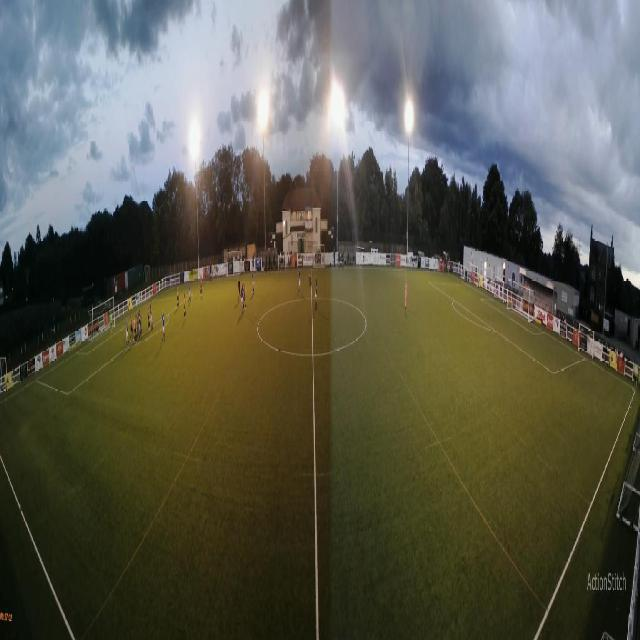ball: (252, 289, 253, 295)
player: (162, 310, 166, 342), (243, 281, 247, 312), (314, 279, 318, 310), (133, 314, 137, 344), (130, 314, 134, 344), (126, 318, 130, 348), (138, 311, 142, 339), (136, 315, 140, 342), (297, 269, 301, 296), (183, 293, 187, 319), (139, 309, 143, 335), (241, 284, 244, 314), (405, 279, 408, 309), (148, 305, 151, 332), (251, 269, 254, 295), (150, 304, 153, 330), (238, 277, 241, 302), (177, 286, 180, 308), (110, 311, 113, 333), (308, 273, 312, 287), (200, 275, 202, 297), (189, 281, 191, 302)
